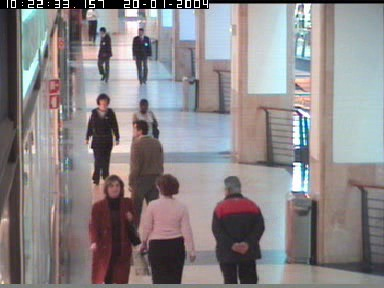person: (138, 174, 198, 283), (87, 174, 141, 284), (212, 176, 265, 284), (127, 119, 162, 241), (85, 93, 119, 185), (129, 97, 159, 155), (133, 27, 152, 82), (96, 27, 111, 83), (86, 9, 98, 43)
